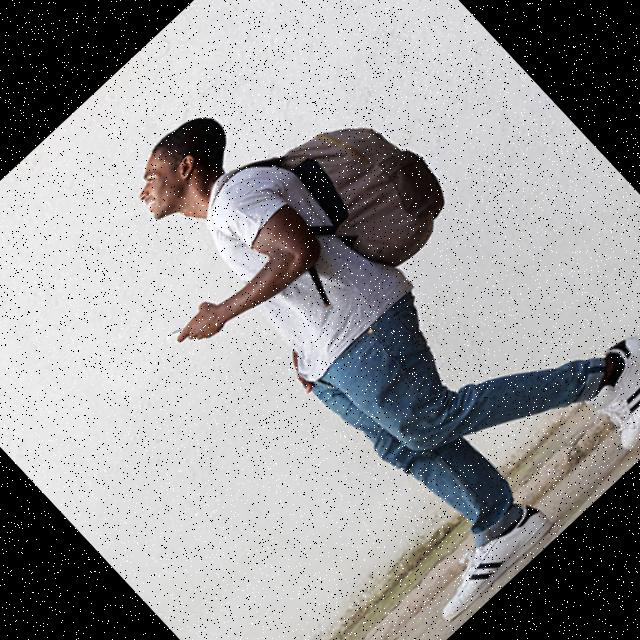Person: (70, 0, 640, 626)
